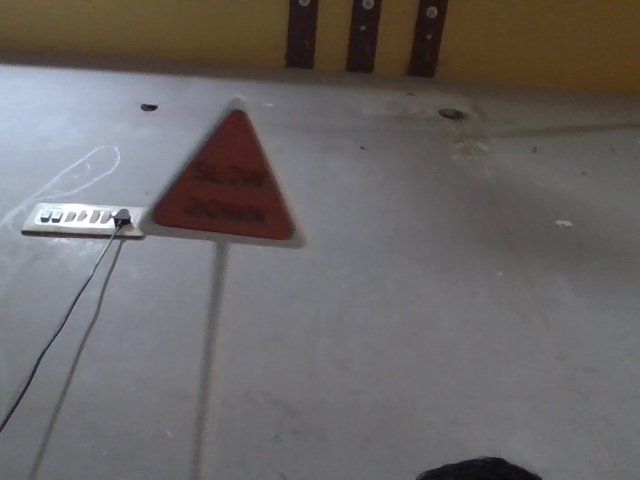slowdown: (147, 93, 295, 256)
